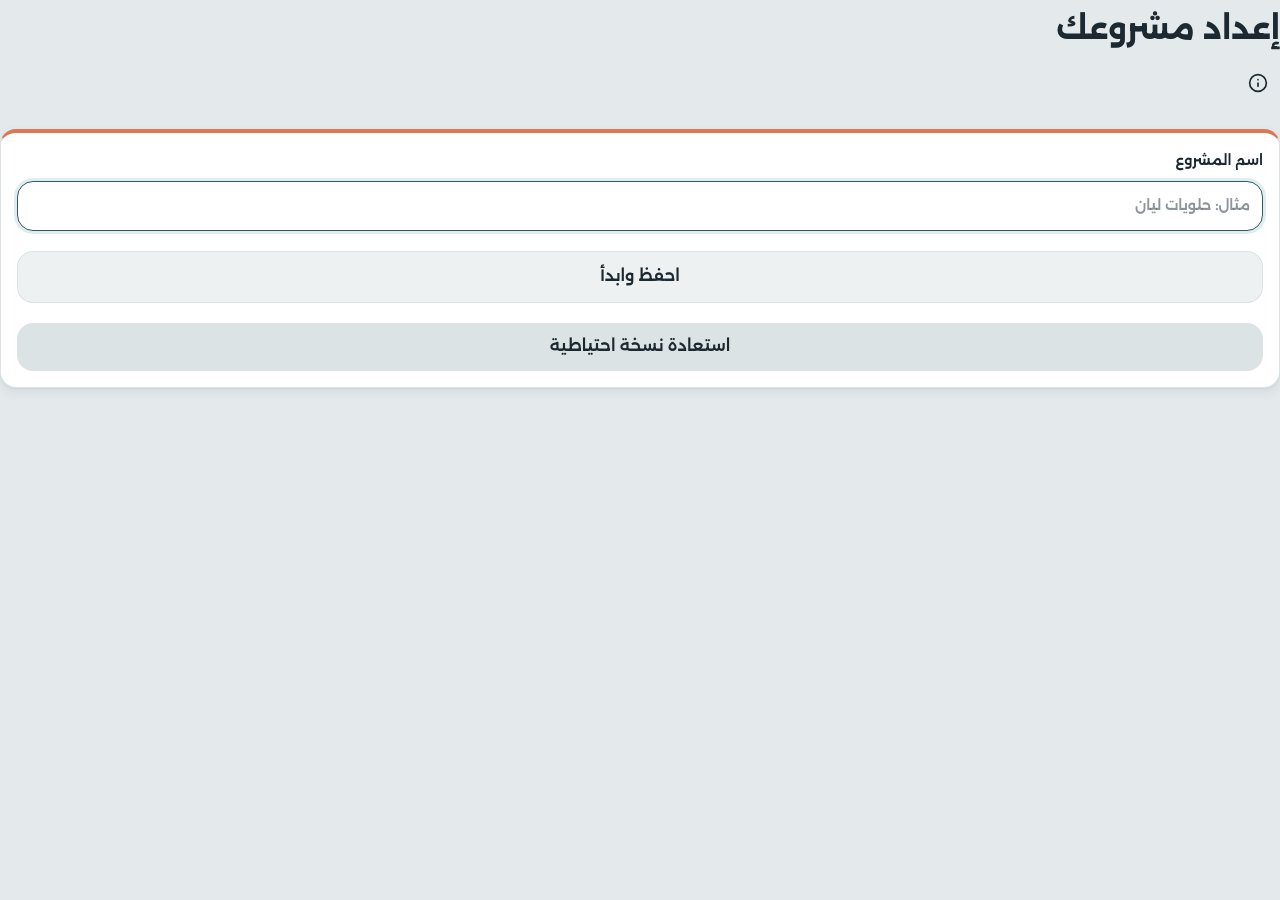
UNIT-001 info dialog — library modal, read-only, focus contract (R08/AC08) › the close button closes and the veil click closes — neither saves nor mutates the form (R08/B4)
Type "اسم قبل الحوار" into the field labelled "اسم المشروع". click: (640, 206)
box: [17,181,1263,230]
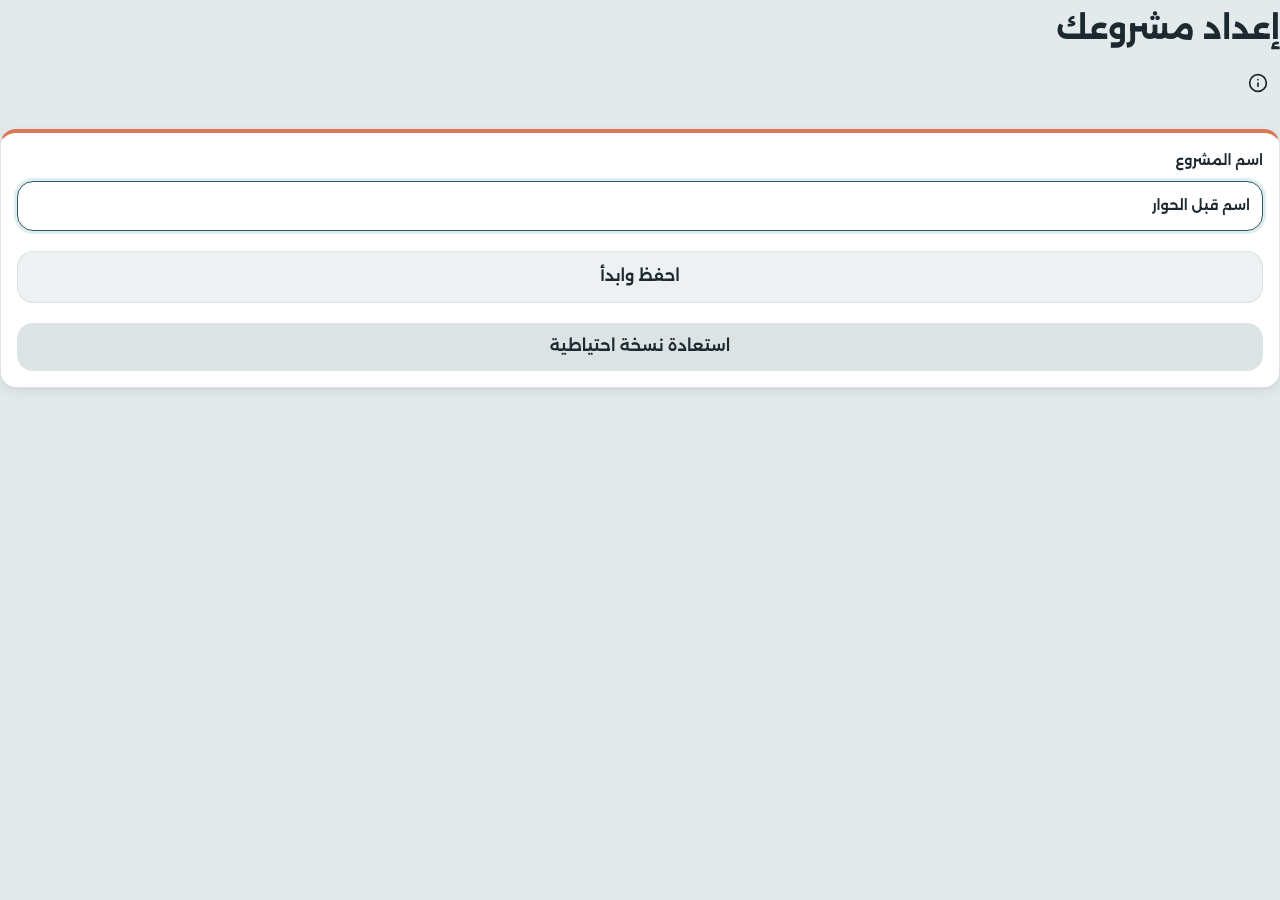
Click the button named "معلومات الإعداد وحفظ البيانات". click: (1258, 83)
box: [1236,61,1279,105]
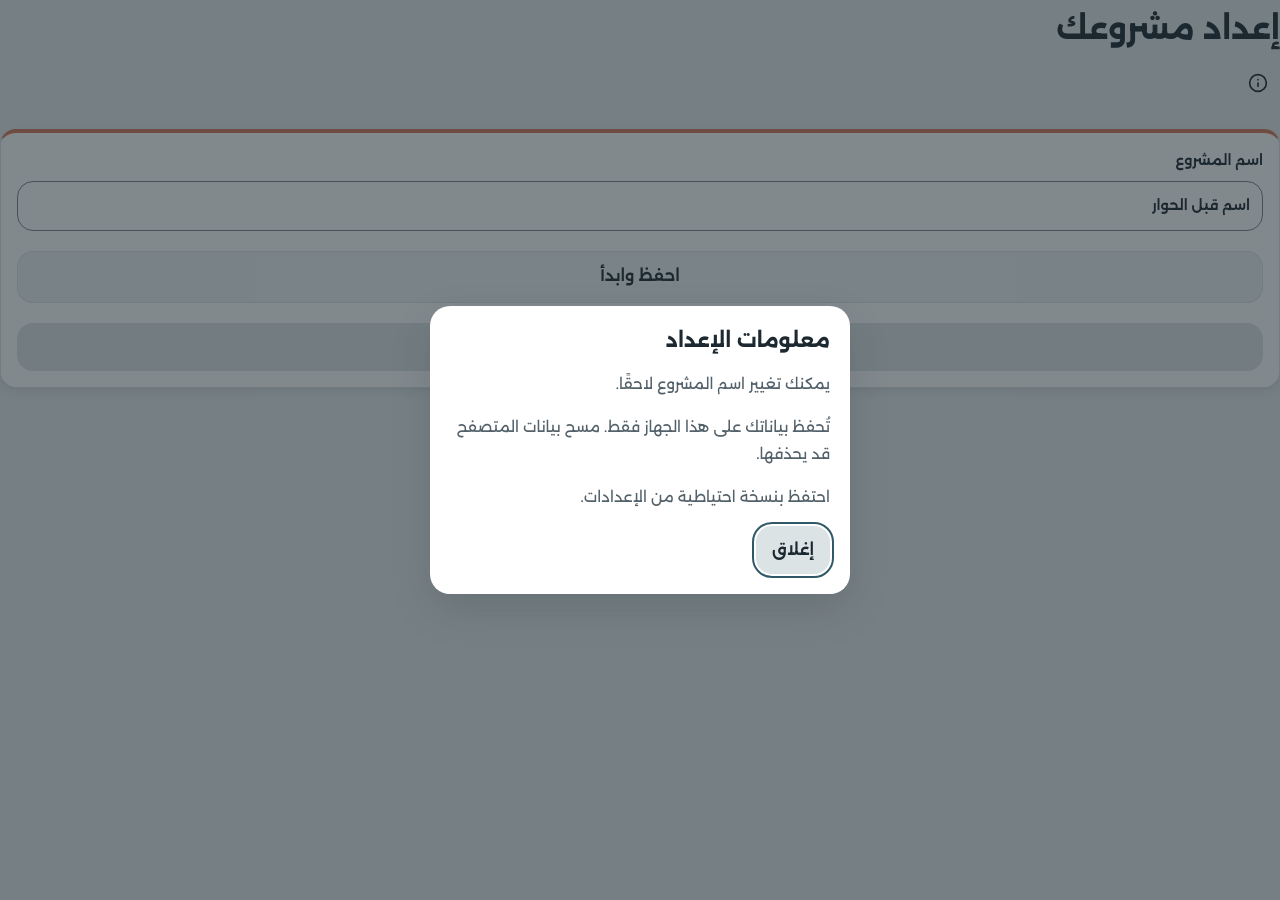
expect the dialog with test id "setup-info-dialog" is shown: met, box [430,306,850,594]
Click the button "إغلاق". click: (793, 550)
box: [756,526,830,574]
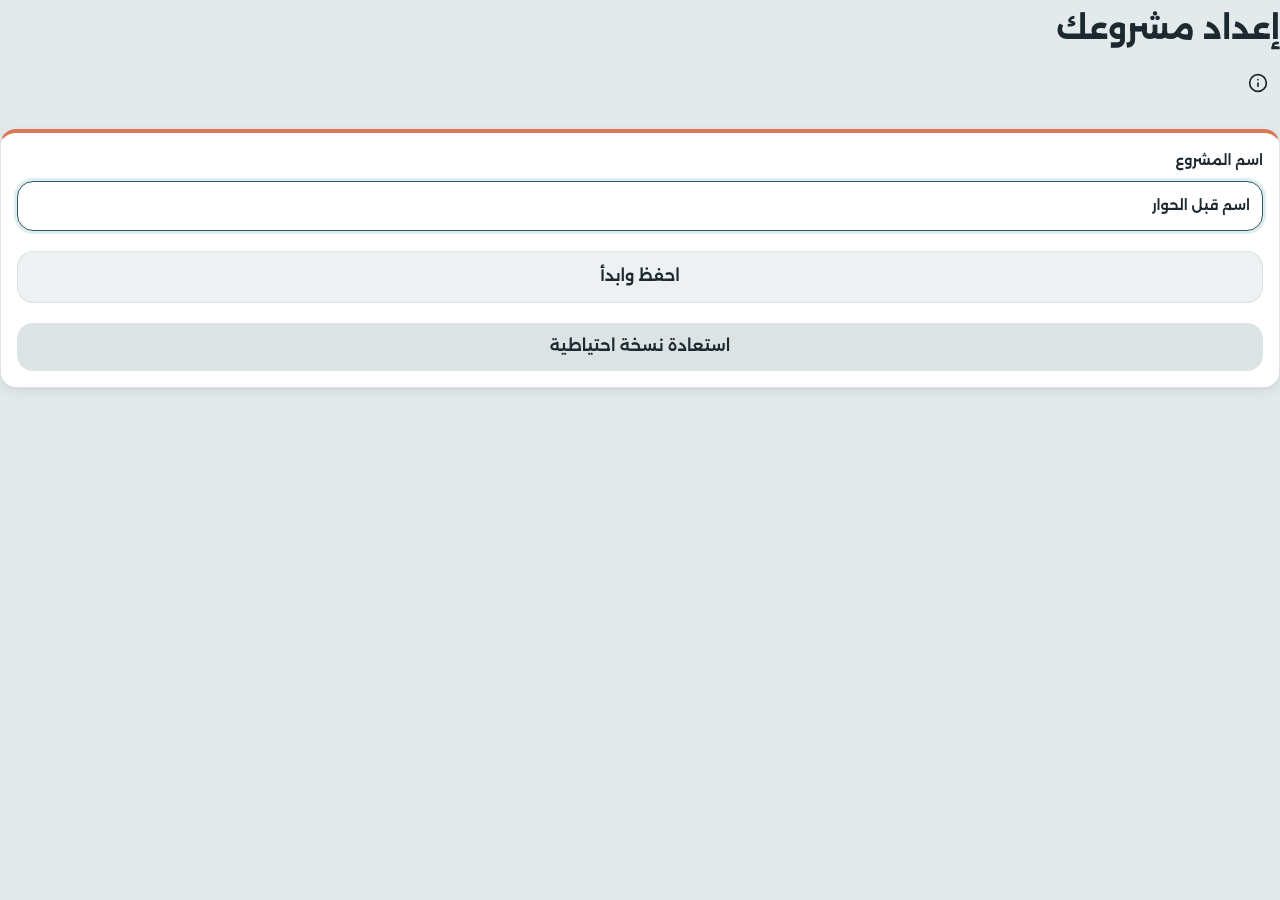
expect the dialog with test id "setup-info-dialog" is gone: met
Click the button named "معلومات الإعداد وحفظ البيانات". click: (1258, 83)
box: [1236,61,1279,105]
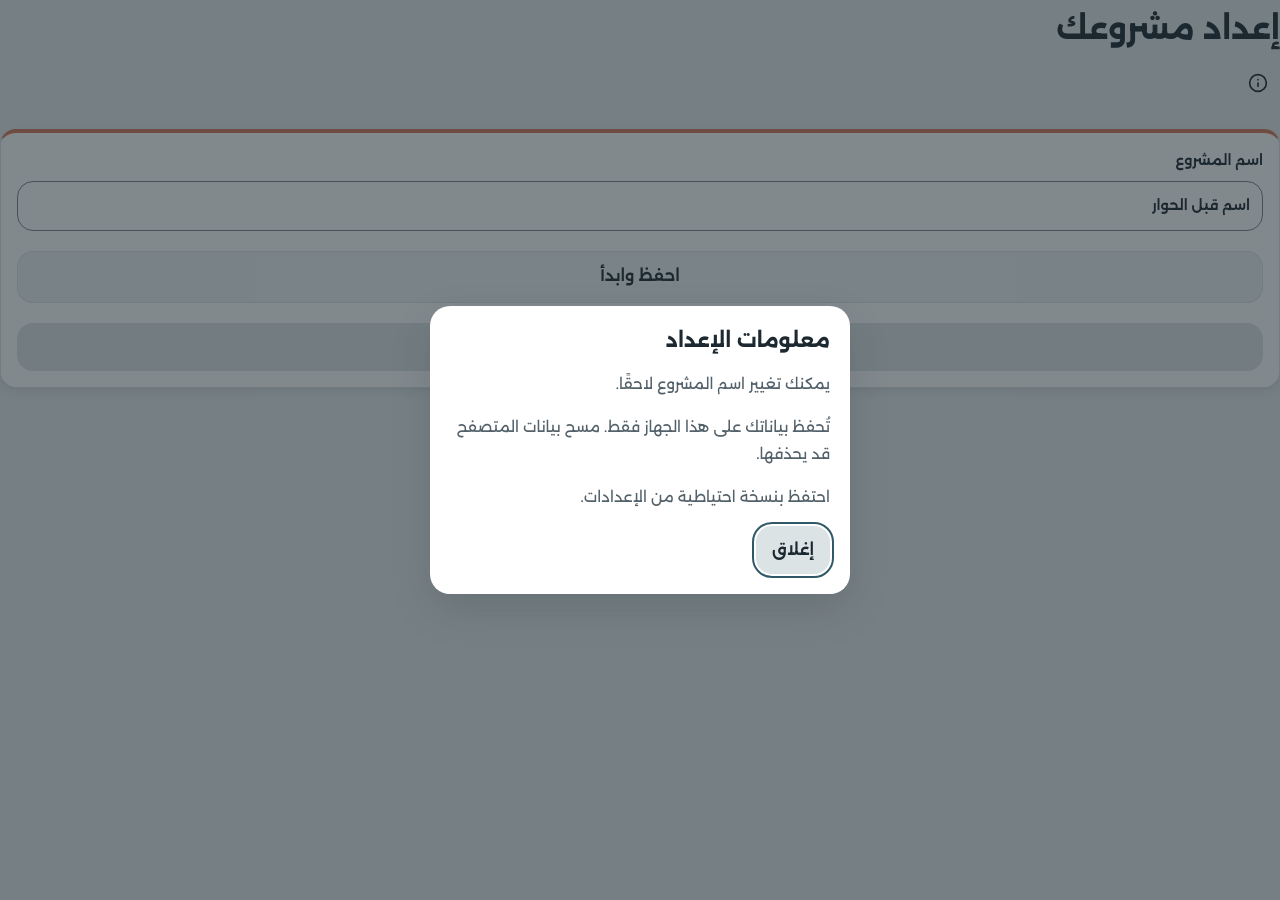
Click the element with test id "setup-info-overlay". click: (77, 450)
box: [0,0,1279,899]
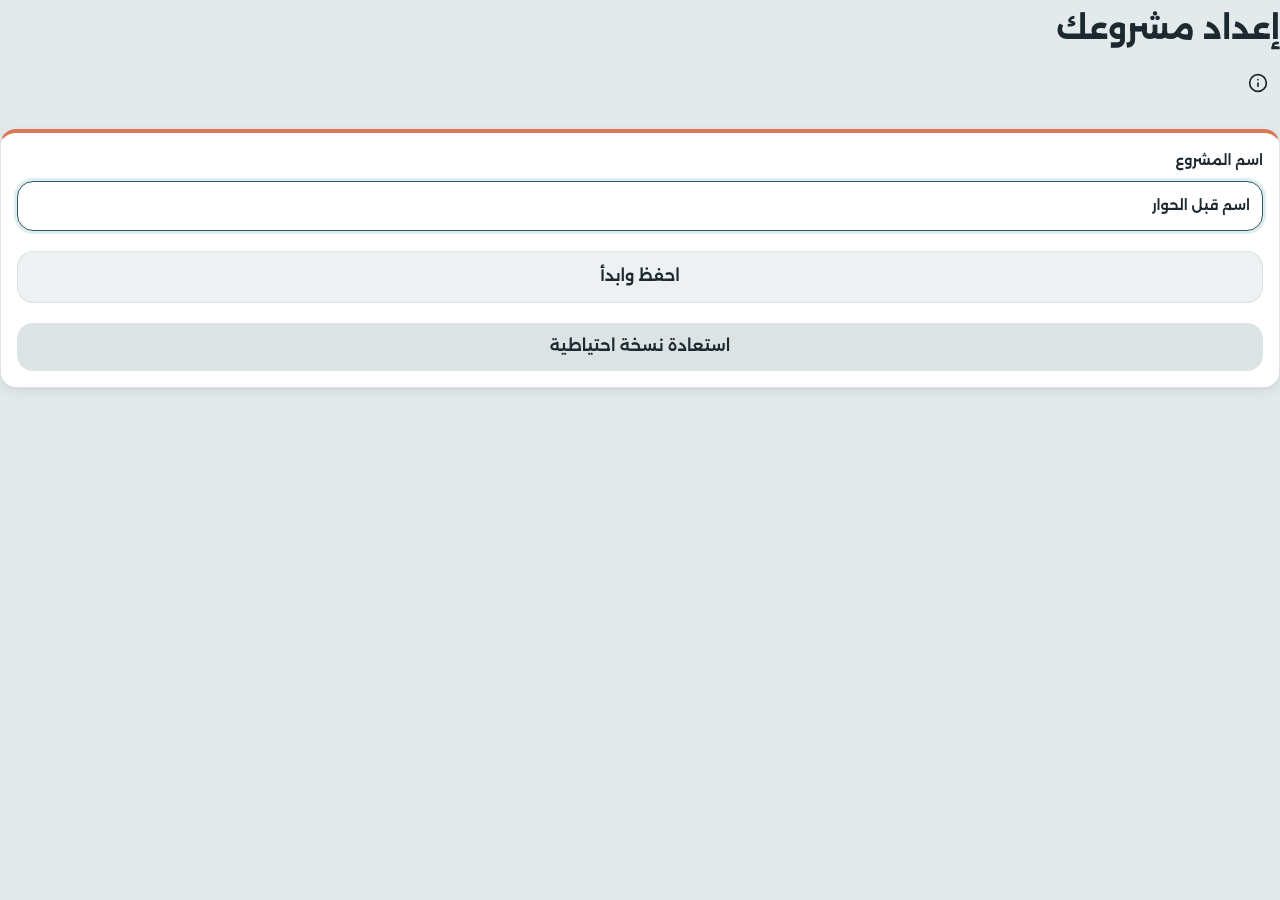
expect the dialog with test id "setup-info-dialog" is gone: met
